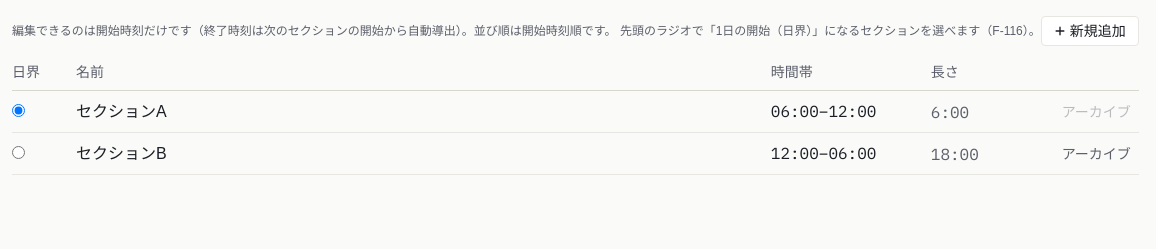
SectionsTable（画面定義書03 §3.1: 開始時刻・日界の選択・終了時刻は導出） › 新規追加 › 「新規追加」を押すとエラー表示を消す
Click the button "セクションA" at (121, 112), box [76, 100, 167, 124]
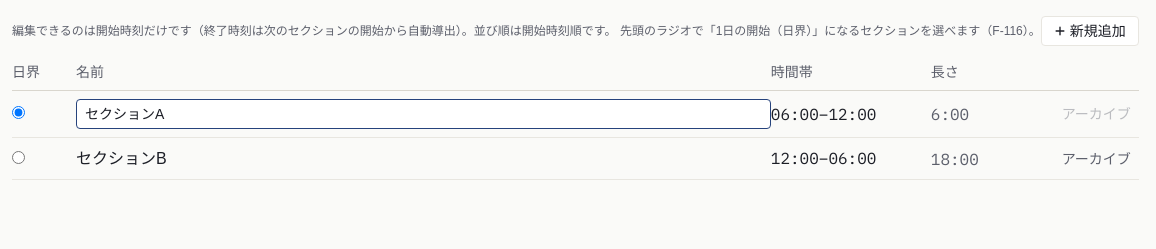
Replace the text in the field showing "セクションA" with "改名後" at (423, 114), box [76, 99, 771, 129]
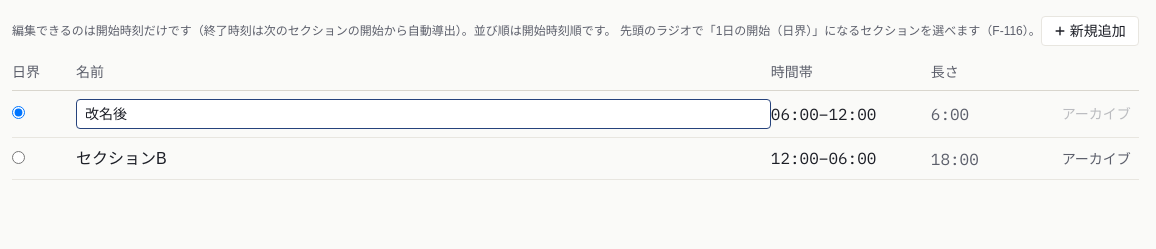
Leave the field showing "セクションA", box [76, 99, 771, 129]
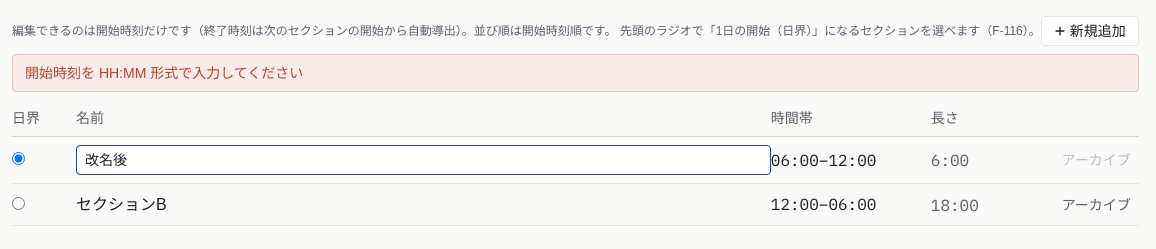
Expected: the text "開始時刻を HH:MM 形式で入力してください" is shown, [12, 54, 1139, 92]
Click the button "新規追加" at (1090, 31), box [1041, 16, 1139, 46]
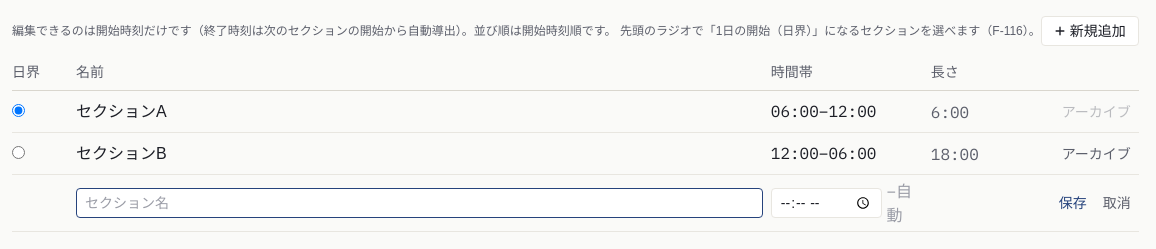
Expected: the text "開始時刻を HH:MM 形式で入力してください" is gone
